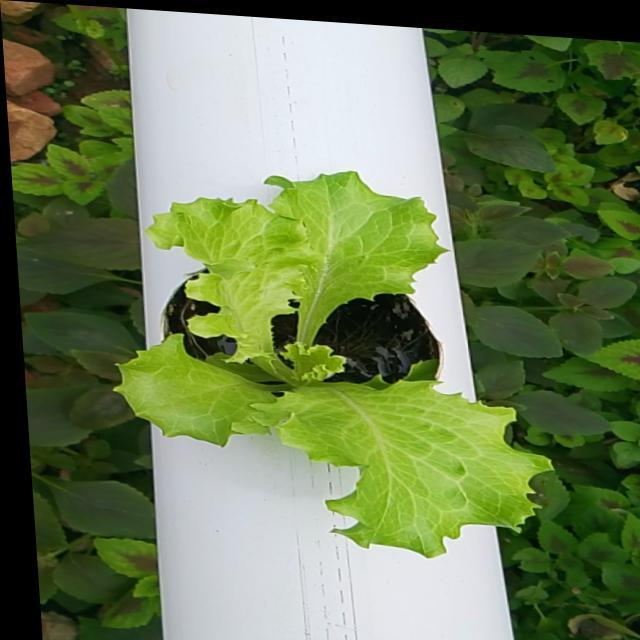Baby: (115, 171, 552, 557)
